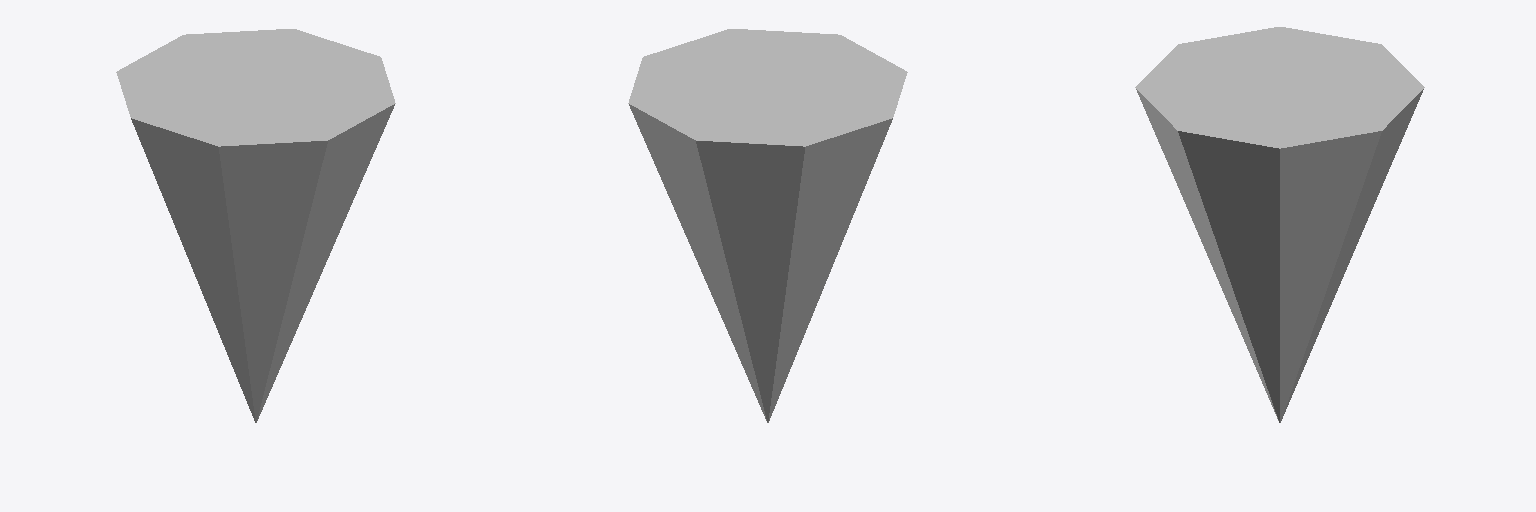
3 renders of one model, left to right at view 1: azimuth 30°, elevation 25°; view 2: azimuth 150°, elevation 25°; view 3: azimuth 270°, elevation 25°, orthographic.
Visible parts, largest first — view 1: pDisc3; view 2: pDisc3; view 3: pDisc3.
Boxes of the visible parts, <box> form: pDisc3: <box>116,29,395,422</box>; pDisc3: <box>628,29,907,422</box>; pDisc3: <box>1135,27,1424,422</box>.
Size of the model in its own units: 131 by 169 by 131.